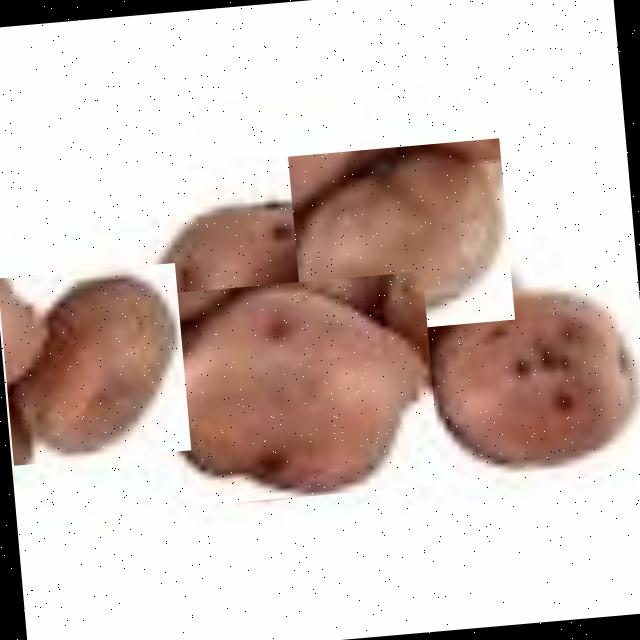Diseased-fungal potato: (129, 271, 441, 510), (288, 138, 514, 338), (427, 281, 640, 479), (0, 262, 191, 465)
